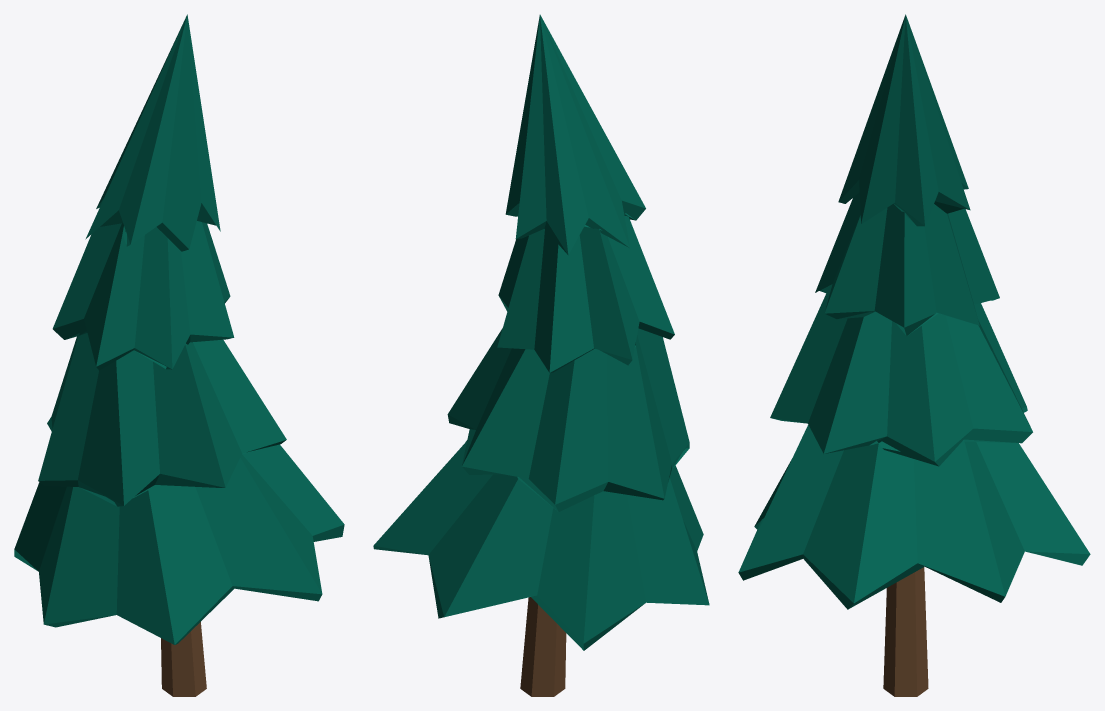
File: PineTree.006.fbx
3 renders of one model, left to right at view 1: azimuth 30°, elevation 25°; view 2: azimuth 150°, elevation 25°; view 3: azimuth 270°, elevation 25°, orthographic.
Visible parts, largest first — view 1: PineTree.006; view 2: PineTree.006; view 3: PineTree.006.
Part boxes in pixels (x1=…): PineTree.006: x1=14, y1=14, x2=344, y2=696; PineTree.006: x1=373, y1=14, x2=709, y2=696; PineTree.006: x1=738, y1=14, x2=1090, y2=696.
Bounding box in the file's own units: 739 × 1653 × 780.
